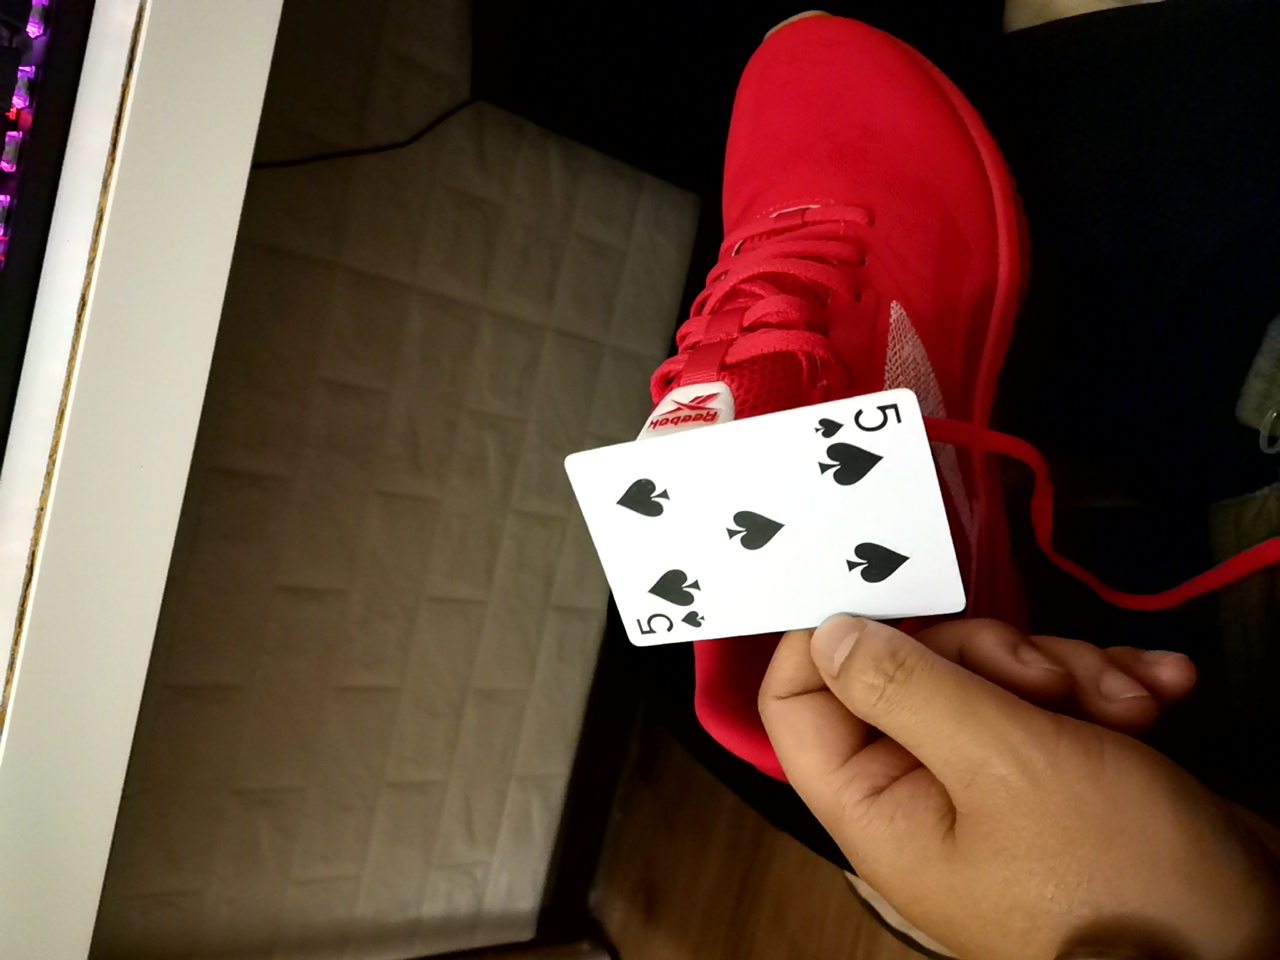ht 5: (558, 399, 976, 648)
